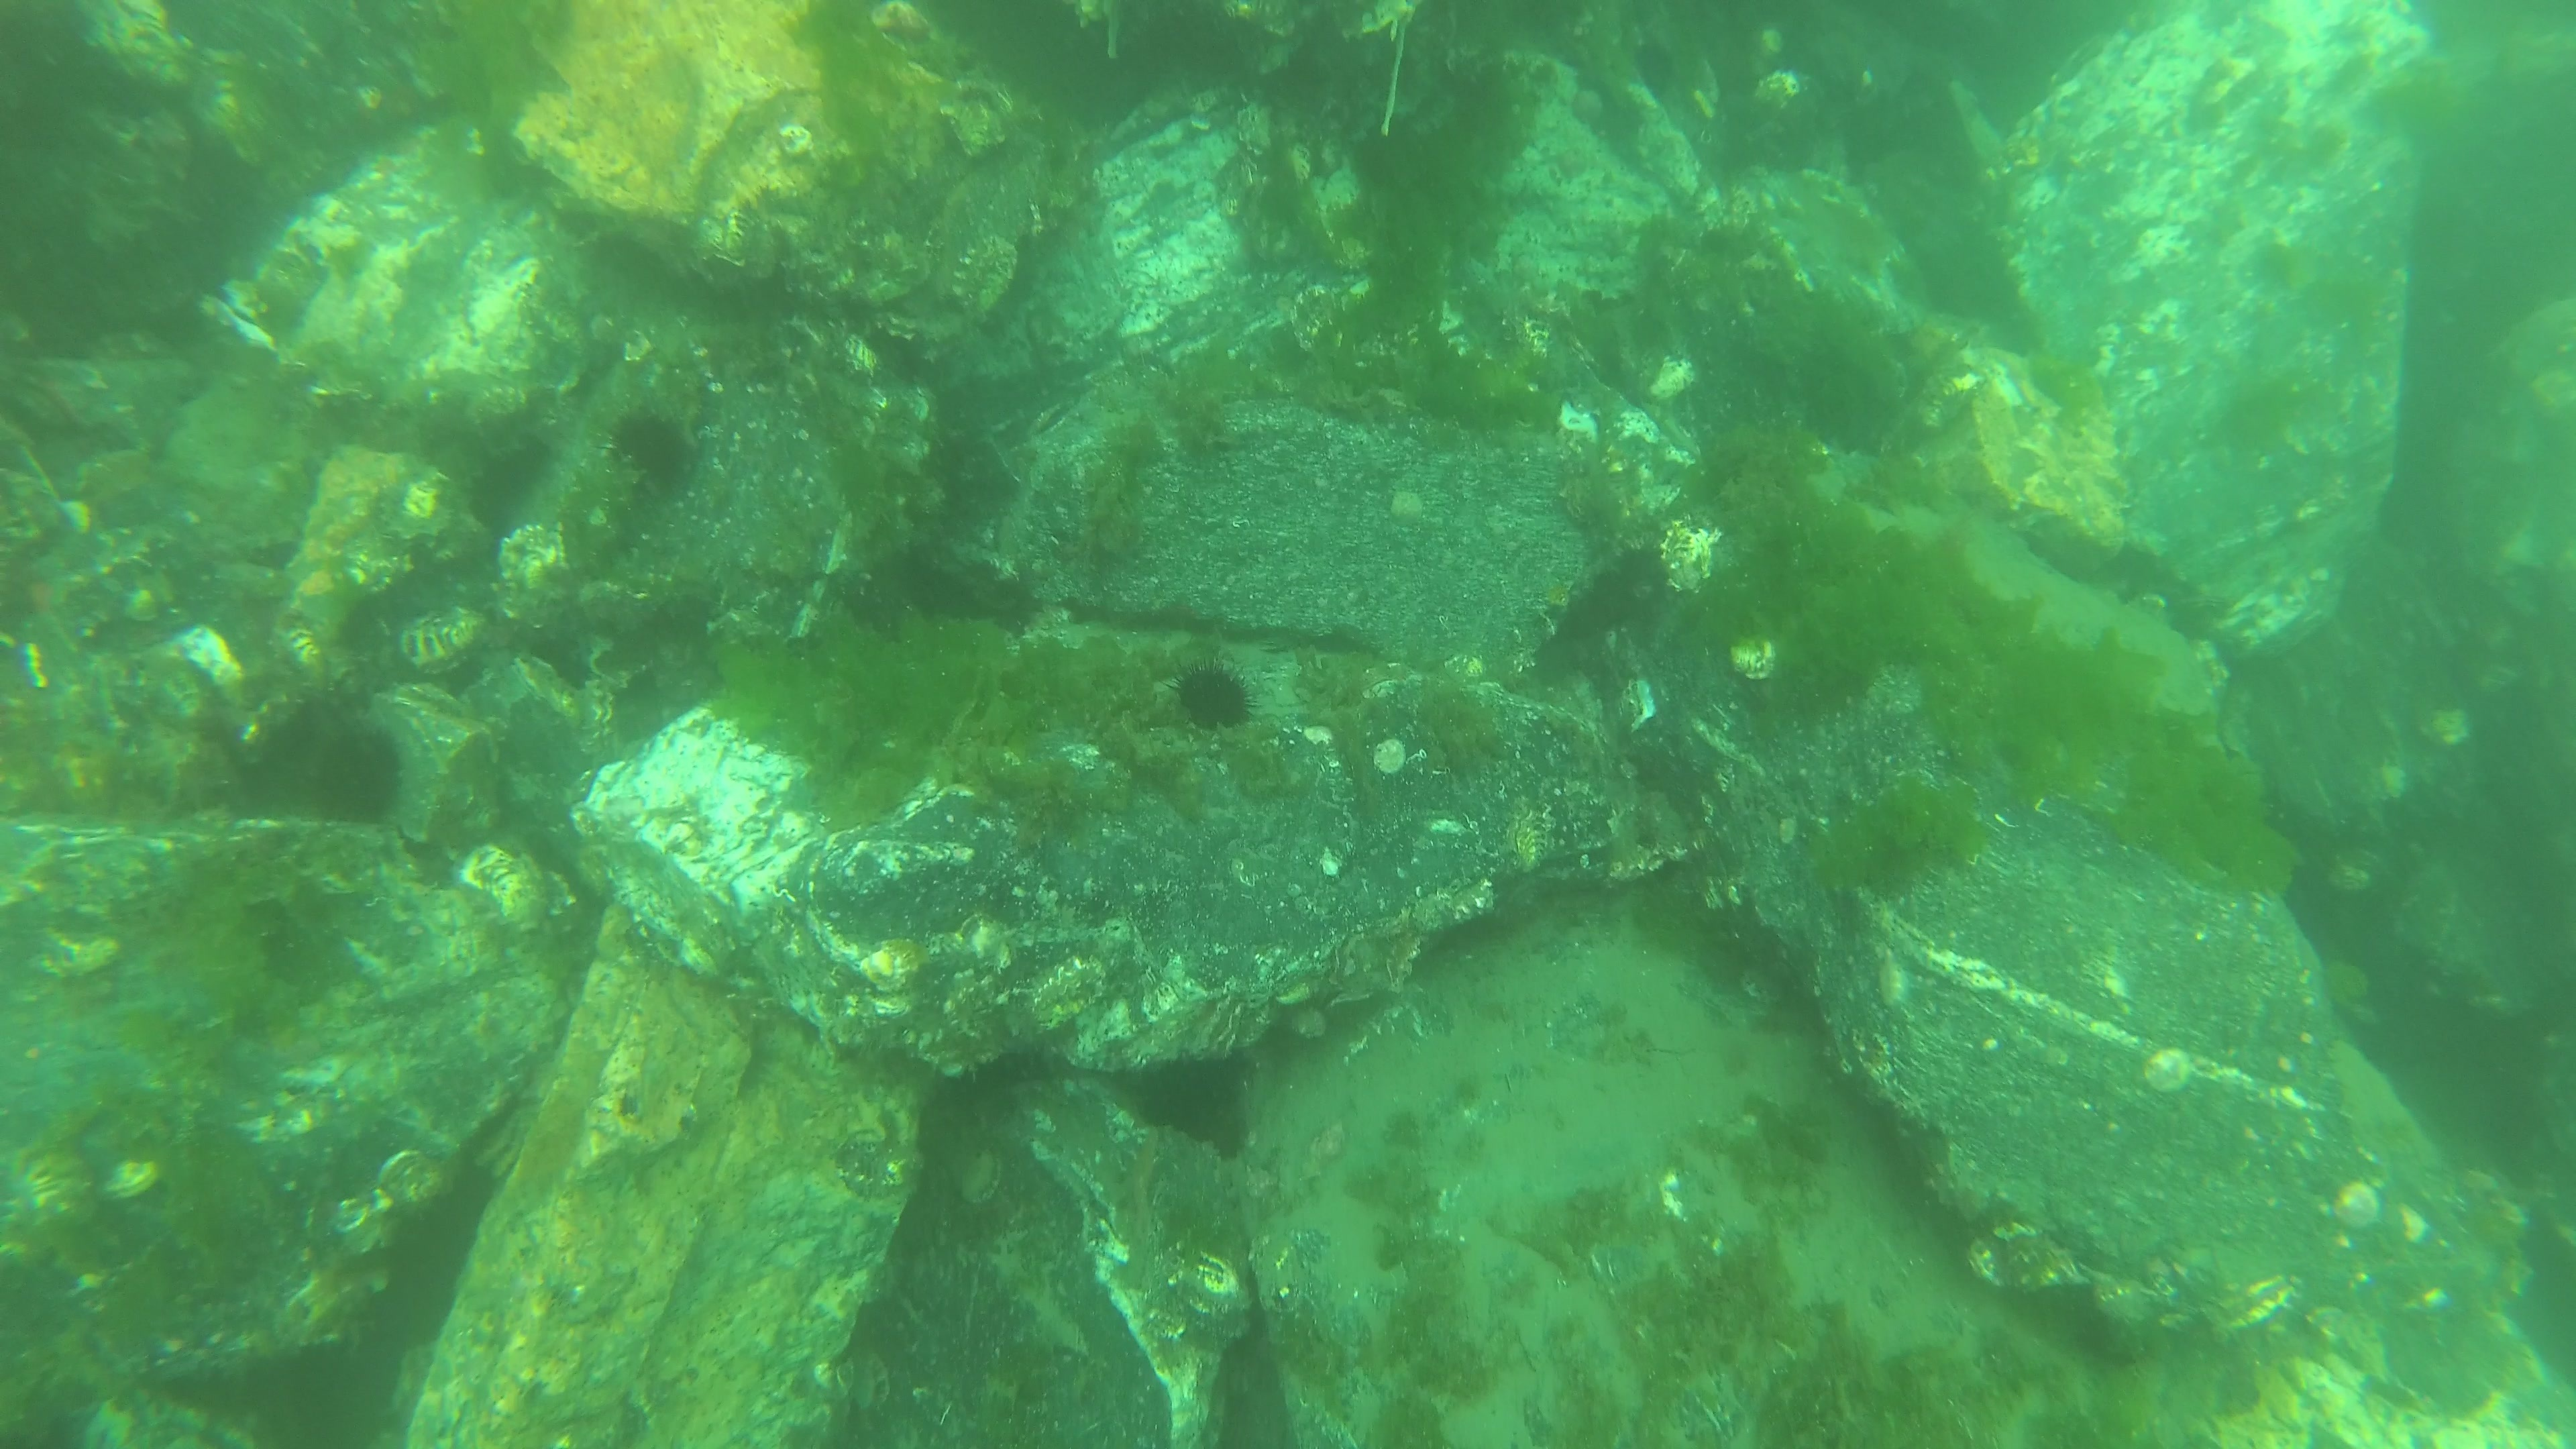echinus: (311, 731, 400, 819), (612, 412, 694, 497), (1171, 665, 1254, 738), (1355, 124, 1426, 196), (1610, 42, 1681, 115)
